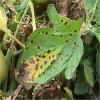Tomato leaf bacterial spot: (13, 4, 86, 87)
